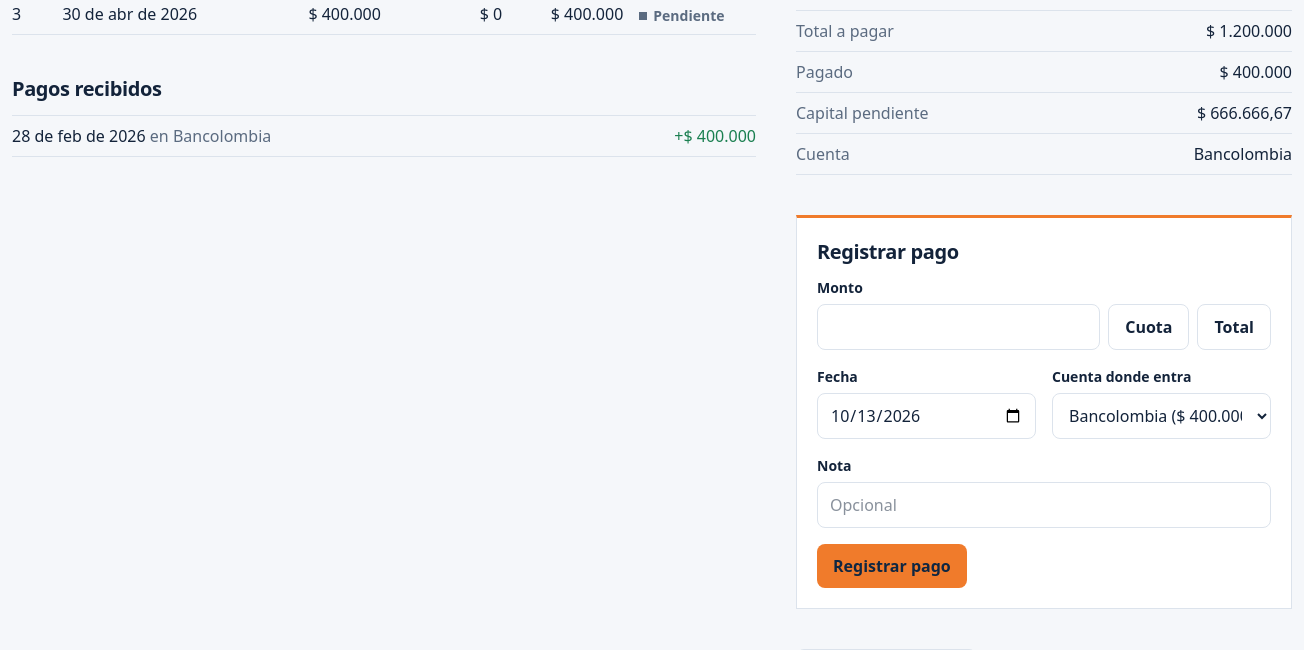
payment error keeps the typed amount
(page scrolled)
In the field labelled "Monto": (959, 327) [817,304,1100,350], type "900000"
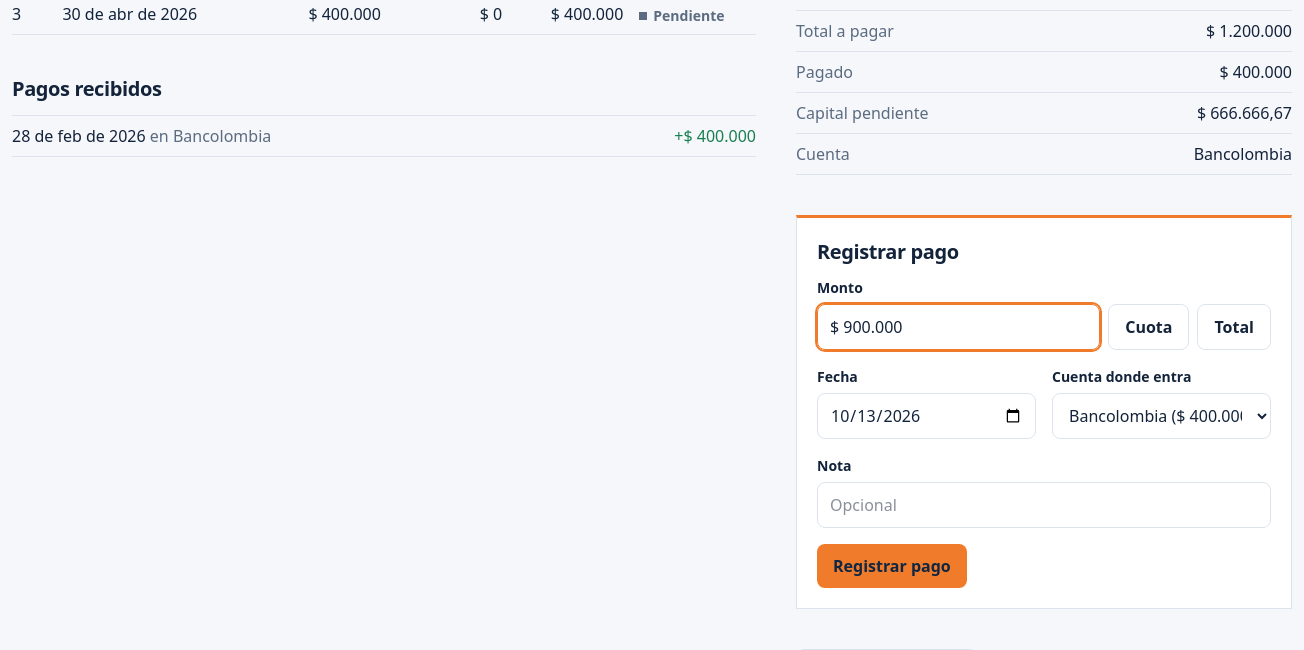
Click the button "Registrar pago": click(892, 566) [817,544,967,588]
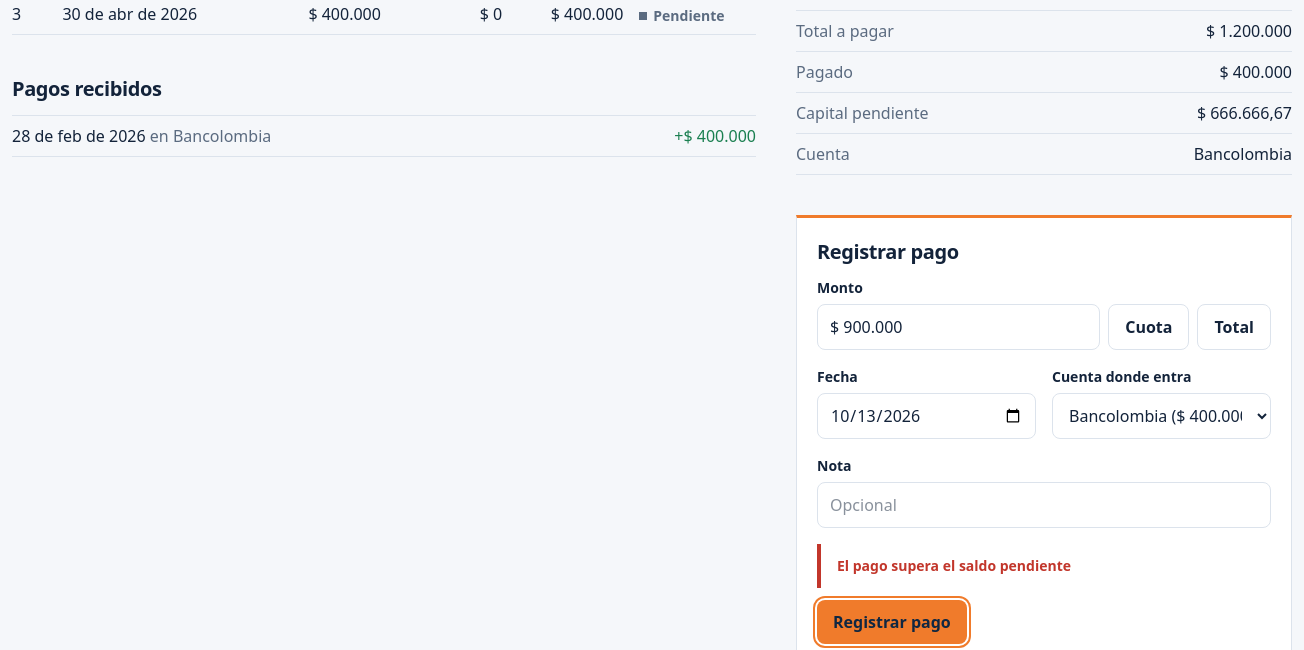
Expected: the field labelled "Monto" holds "$ 900.000", [817,304,1100,350]
Expected: the text "El pago supera el saldo pendiente" is shown, [837,556,1071,575]
